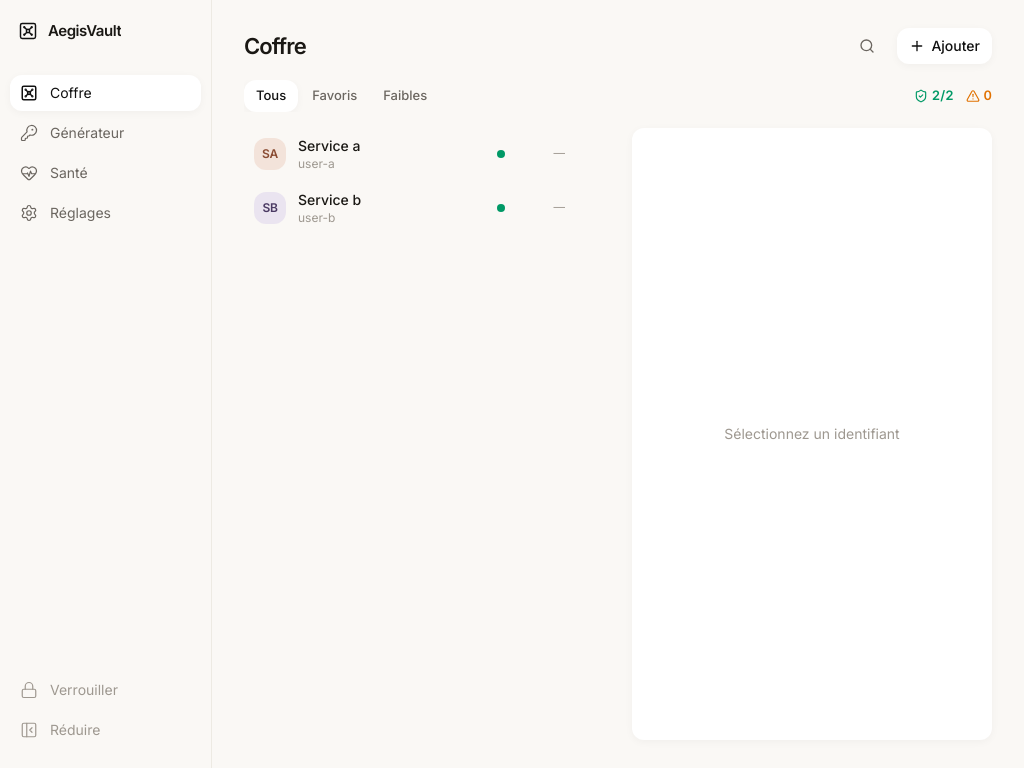
Test case: MainLayout vault list › searches service and username
Click the button named "Rechercher" at (867, 46), box 849,28 -> 885,64
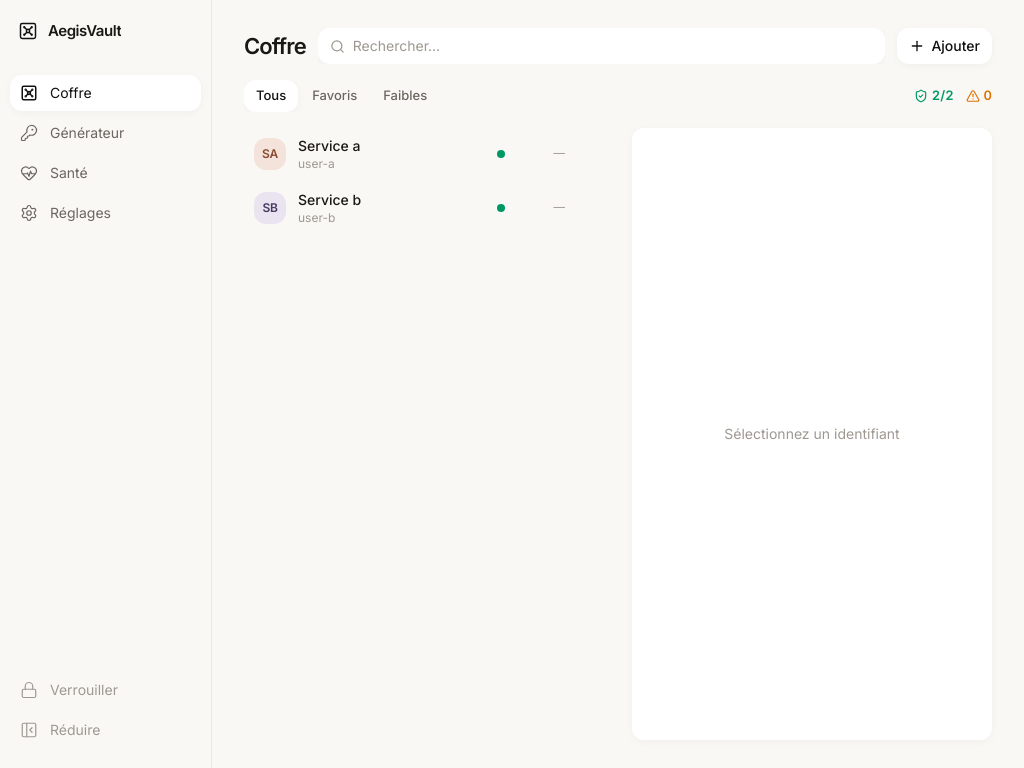
Type "b" into the field named "Rechercher dans le coffre" at (613, 46), box 353,36 -> 873,56
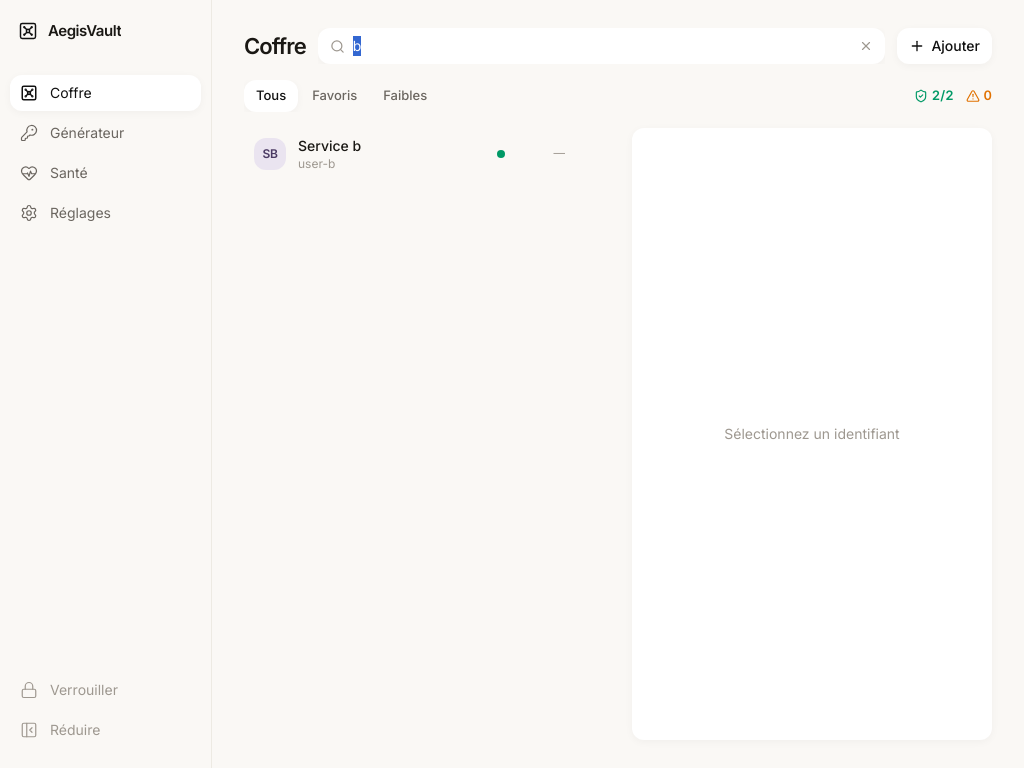
Expected: the text "Service b" is shown, 298,136 -> 361,154
Now the text "Service a" is gone
